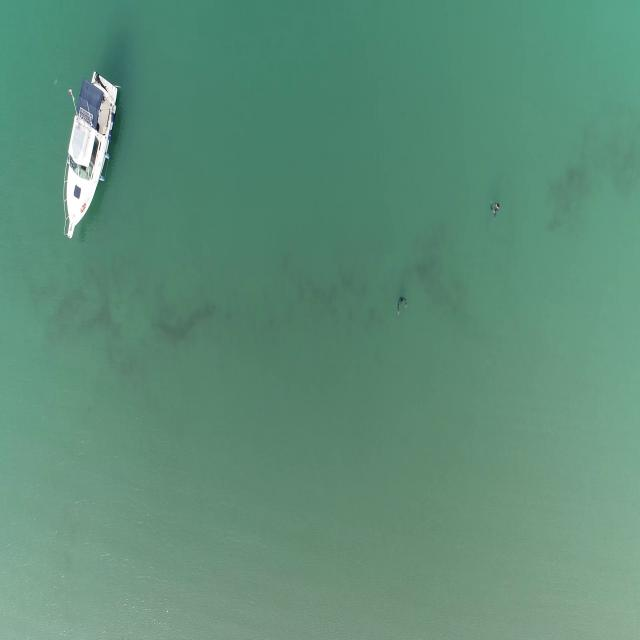boat: (59, 66, 120, 240)
person: (490, 196, 502, 224), (395, 295, 409, 317)
